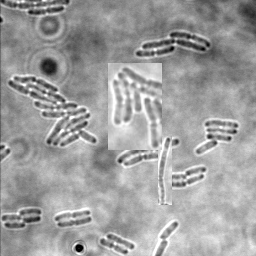Dividing: (158, 136, 172, 205), (99, 238, 128, 255), (54, 209, 90, 222), (172, 175, 204, 189), (56, 217, 92, 228), (27, 7, 64, 17)
Microcolony: (7, 76, 98, 147), (108, 63, 162, 150), (117, 137, 180, 168), (135, 32, 211, 57), (195, 120, 238, 155), (1, 208, 42, 229)
Rod: (106, 233, 135, 251), (157, 222, 178, 240), (184, 167, 206, 177), (172, 174, 187, 183)
